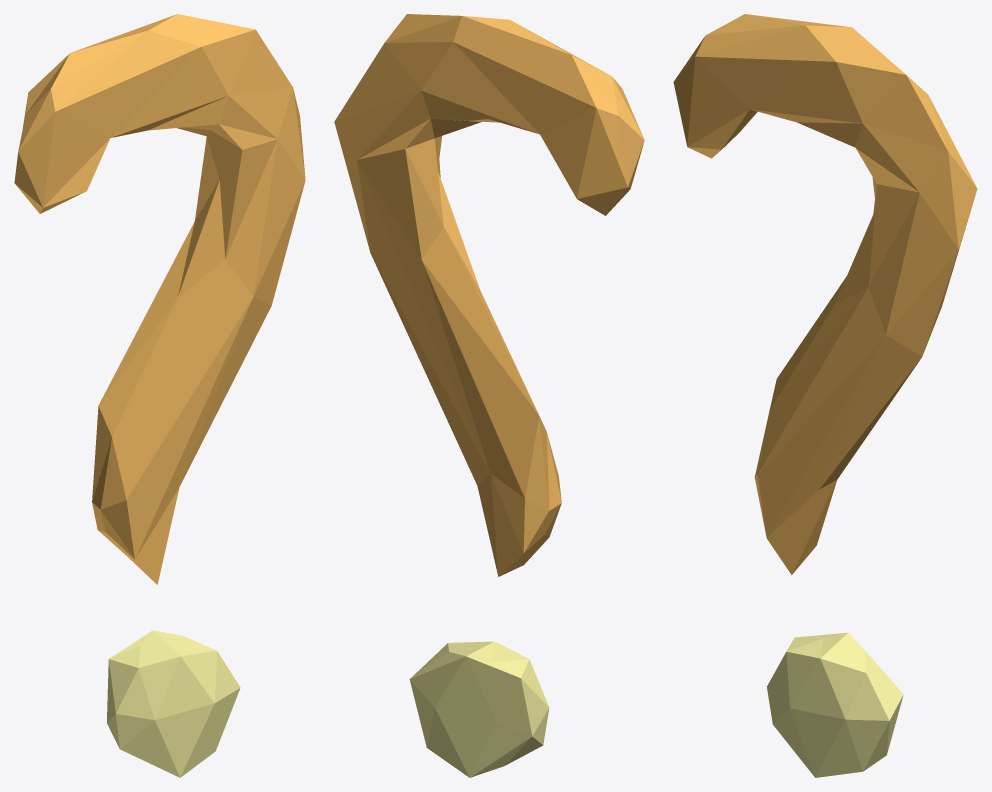
File: aboutIcon.glb
The picture shows the model from 3 angles, left to right: view 1: azimuth 30°, elevation 25°; view 2: azimuth 150°, elevation 25°; view 3: azimuth 330°, elevation 25°; orthographic projection. The views are drawn at different scales.
Visible parts, largest first — view 1: aboutIcon; view 2: aboutIcon; view 3: aboutIcon.
Part boxes in pixels (bbox=[...]): aboutIcon: bbox=[14, 14, 305, 777]; aboutIcon: bbox=[334, 14, 644, 777]; aboutIcon: bbox=[673, 14, 977, 777].
Size of the model in its own units: 9.01 by 21.82 by 1.84.
1 material, 1 textured.
